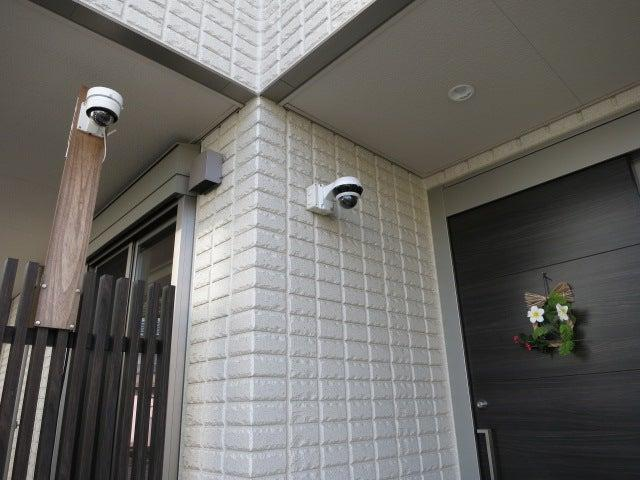maru: (75, 76, 134, 143), (328, 168, 369, 215)
